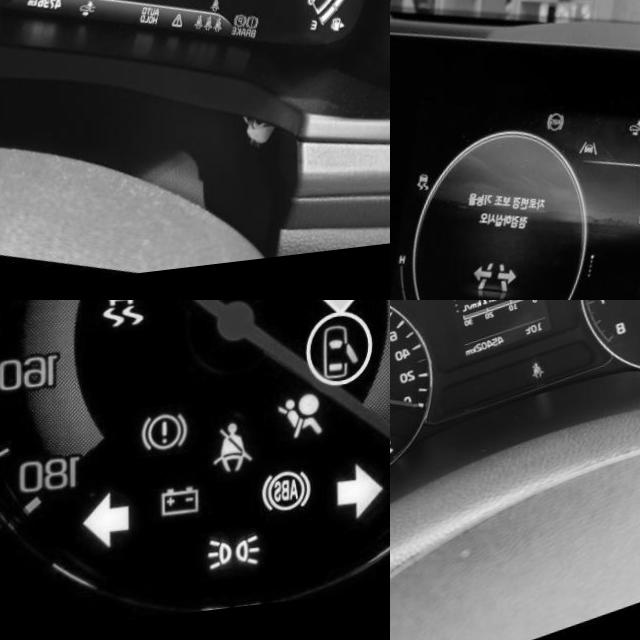Central Warning lamp: (172, 17, 186, 36)
LaneCenteringOff: (579, 142, 601, 161)
SideLamp: (207, 539, 260, 577)
